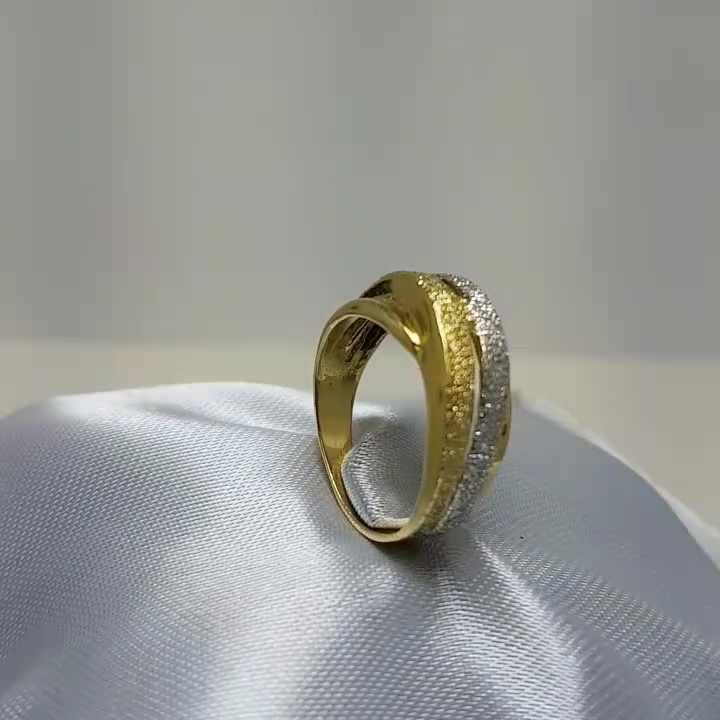Ring 5: (281, 263, 519, 566)
